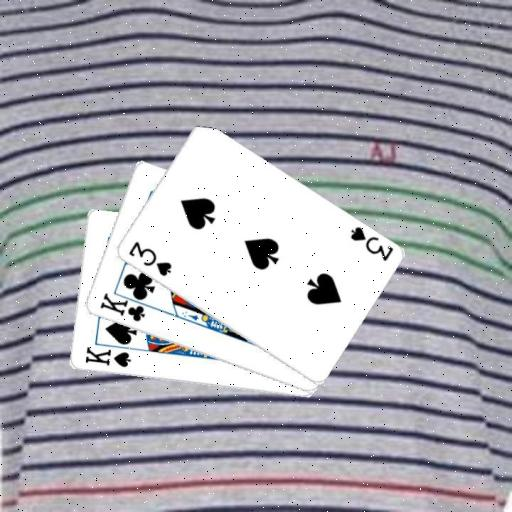3S: (125, 238, 173, 278), (347, 224, 395, 263)
KC: (97, 288, 155, 324)
KS: (81, 344, 132, 369)
